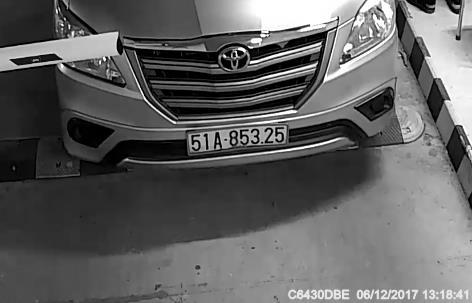License-plate: (179, 112, 302, 162)
